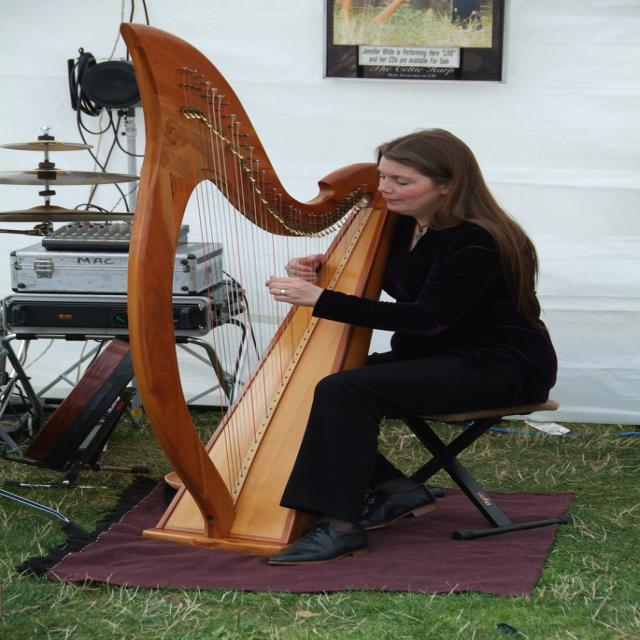harp: (119, 21, 396, 559)
